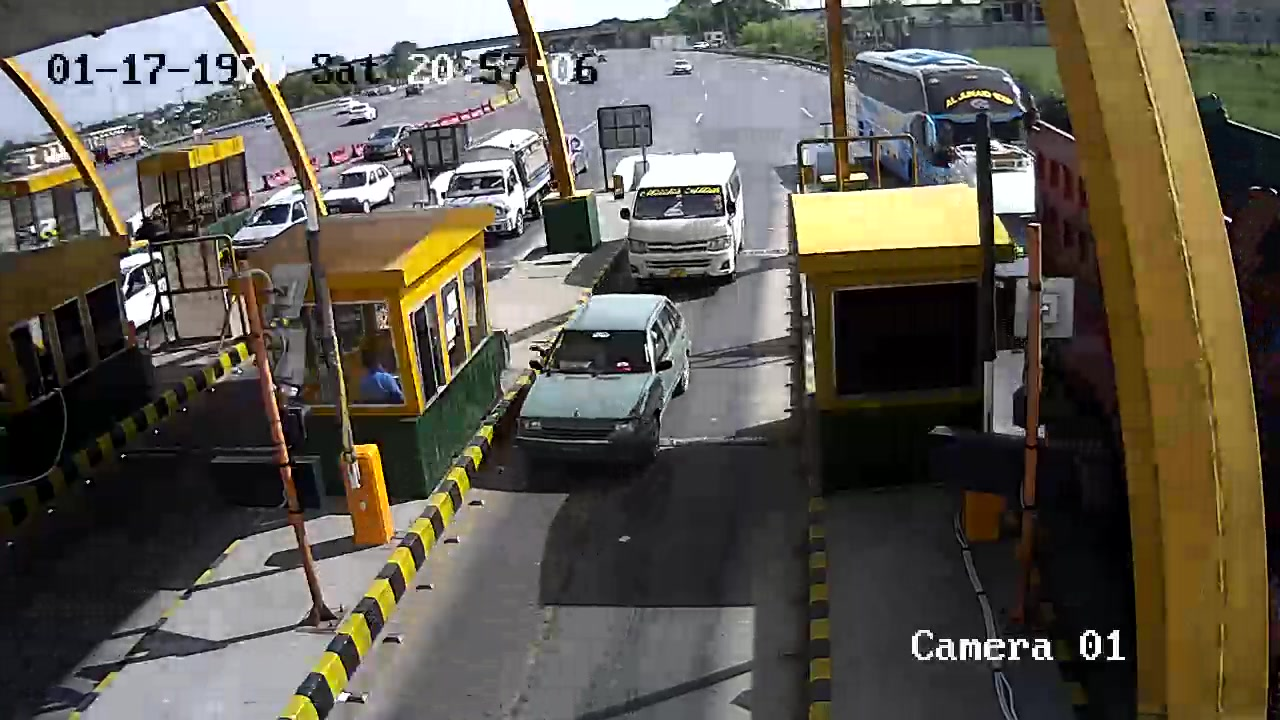F1: (497, 285, 698, 476)
